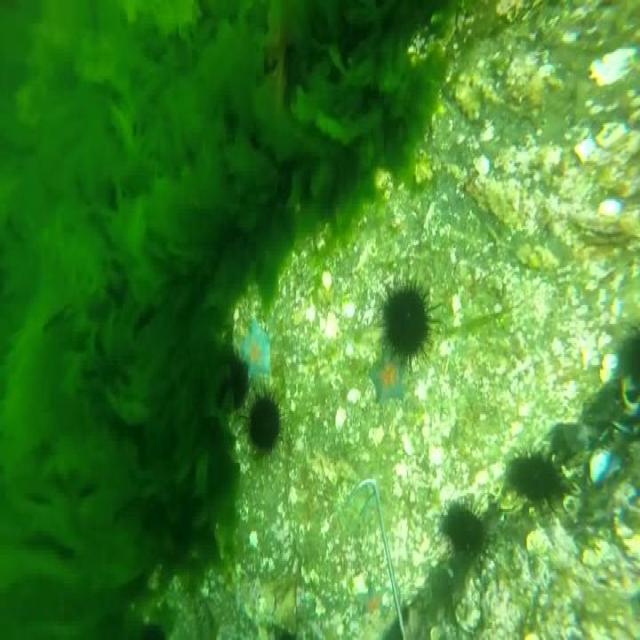echinus: (380, 279, 440, 366), (244, 390, 284, 465), (509, 453, 571, 501), (442, 495, 484, 553), (215, 346, 247, 413)
scallop: (574, 140, 595, 162), (600, 198, 619, 220), (474, 155, 490, 174), (335, 406, 347, 430), (321, 272, 334, 291), (343, 300, 355, 319), (347, 389, 359, 406)
starfish: (371, 354, 409, 409), (238, 324, 273, 378)
